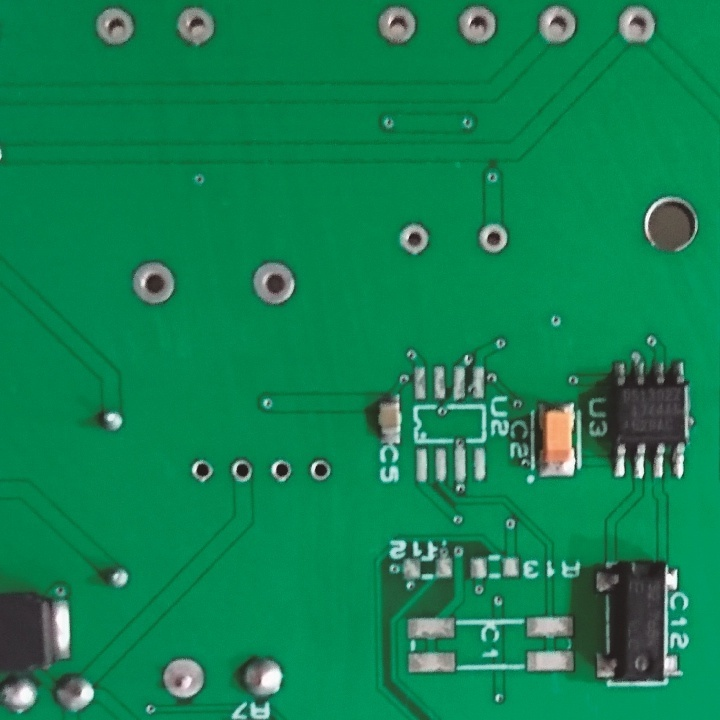F: (248, 257, 299, 309), (130, 258, 177, 306), (453, 5, 501, 50), (160, 654, 209, 698), (376, 1, 419, 48), (173, 6, 219, 49), (533, 4, 579, 47), (614, 3, 658, 46), (93, 8, 136, 50), (395, 218, 435, 259), (476, 220, 510, 258), (268, 458, 294, 486), (229, 457, 254, 486), (309, 457, 333, 484), (190, 458, 213, 484)
